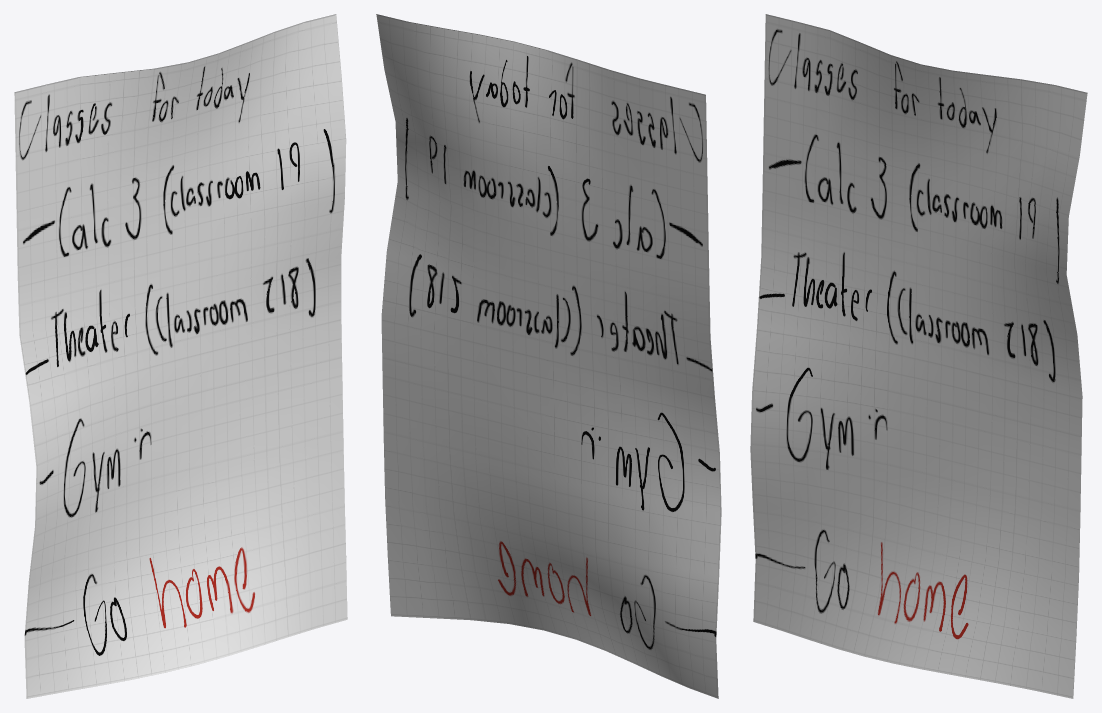
The model's file is hoja.fbx.
3 renders of one model, left to right at view 1: azimuth 30°, elevation 25°; view 2: azimuth 150°, elevation 25°; view 3: azimuth 330°, elevation 25°, orthographic. The views are drawn at different scales.
Parts seen in each view (by area): view 1: Plane001; view 2: Plane001; view 3: Plane001.
Boxes of the visible parts, x1,y1,x2,y2 form: Plane001: (14, 14, 347, 698); Plane001: (376, 14, 721, 698); Plane001: (750, 14, 1087, 698).
Bounding box in the file's own units: 12.33 × 21.9 × 1.88.
Materials: 1 (1 with a texture image).
